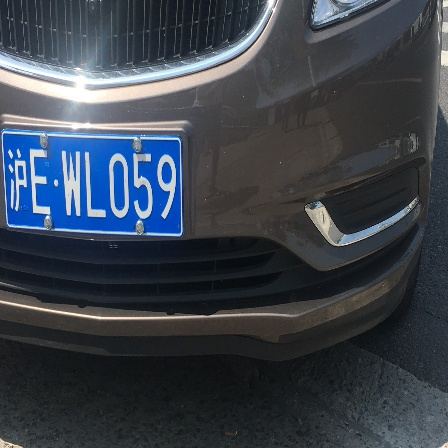plate: (7, 130, 188, 235)
